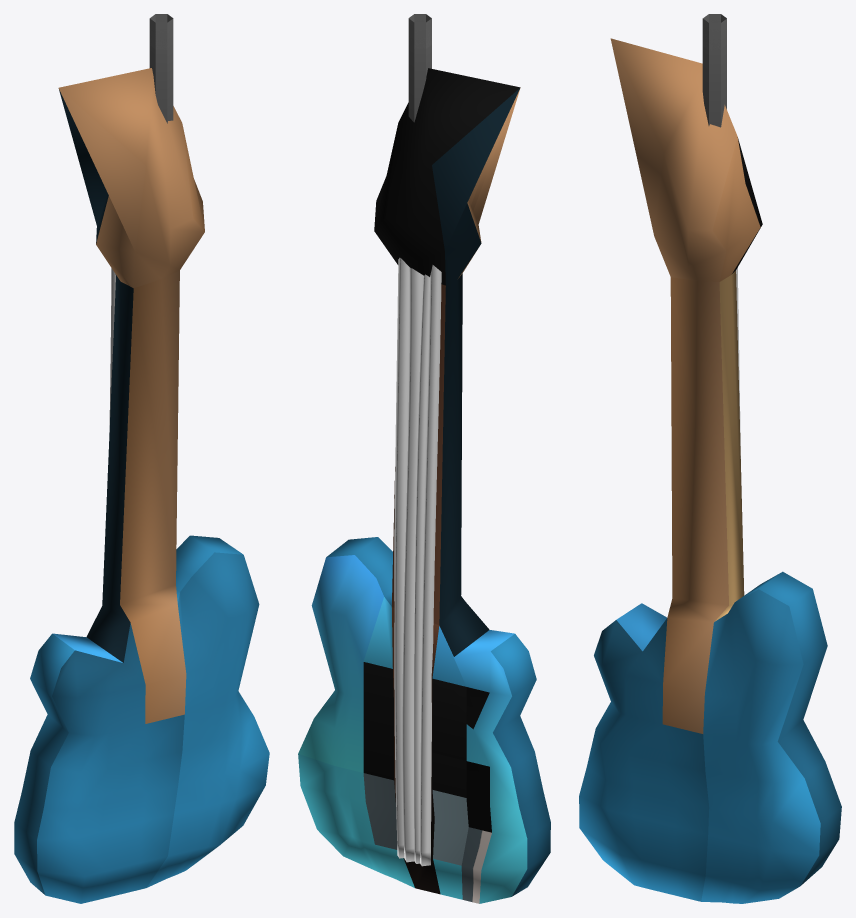
File: SpaceBassv2.fbx
The picture shows the model from 3 angles, left to right: view 1: azimuth 30°, elevation 25°; view 2: azimuth 150°, elevation 25°; view 3: azimuth 330°, elevation 25°; orthographic projection. The views are drawn at different scales.
Parts seen in each view (by area): view 1: Cylinder, Cylinder.001; view 2: Cylinder, NurbsPath.001, NurbsPath.003, NurbsPath, NurbsPath.002, Cylinder.001; view 3: Cylinder, Cylinder.001.
Boxes of the visible parts, x1,y1,x2,y2 form: Cylinder: [14, 68, 269, 903]; Cylinder.001: [149, 14, 173, 123]; Cylinder: [298, 68, 550, 903]; NurbsPath.001: [402, 267, 423, 862]; NurbsPath.003: [420, 265, 441, 866]; NurbsPath: [394, 257, 409, 858]; NurbsPath.002: [414, 274, 429, 863]; Cylinder.001: [408, 14, 431, 122]; Cylinder: [579, 38, 841, 903]; Cylinder.001: [702, 14, 726, 127].
Bounding box in the file's own units: 68.43 × 242 × 22.25.
